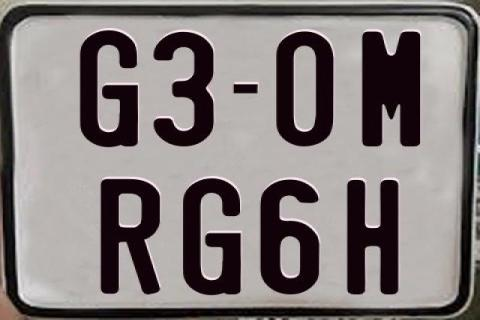0: (274, 29, 338, 147), (150, 30, 212, 148), (260, 178, 320, 294)
G: (183, 177, 246, 297), (77, 29, 135, 150)
H: (347, 179, 402, 299)
M: (359, 29, 421, 147)
R: (99, 180, 163, 298)
